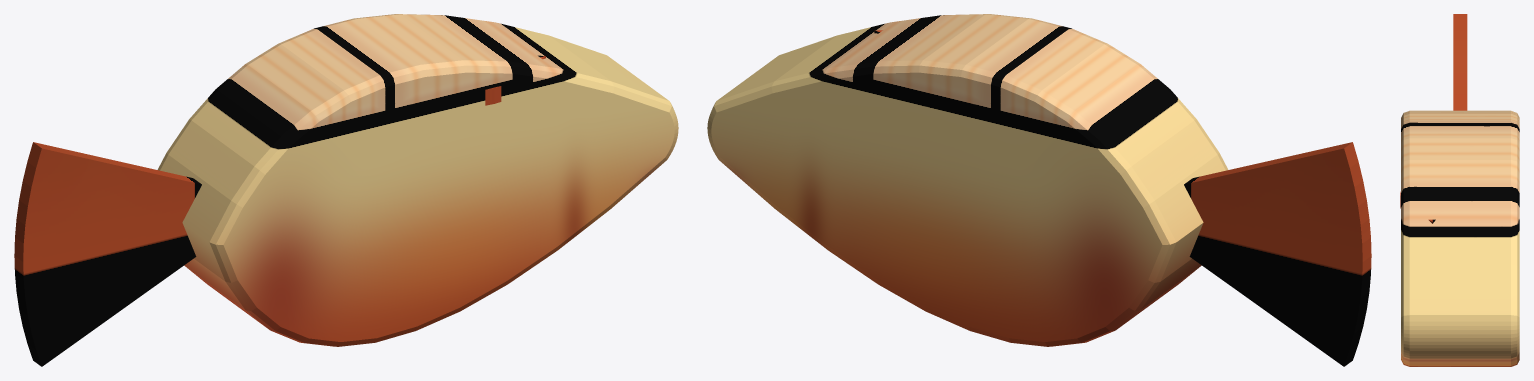
File: fish-goldfish-school.glb
3 views of the same model, side by side, from view 1: azimuth 30°, elevation 25°; view 2: azimuth 150°, elevation 25°; view 3: azimuth 270°, elevation 25° (orthographic). The views are drawn at different scales.
Bounding box in the file's own units: 2.02 × 0.817 × 0.4127.
1 material, 1 textured.
